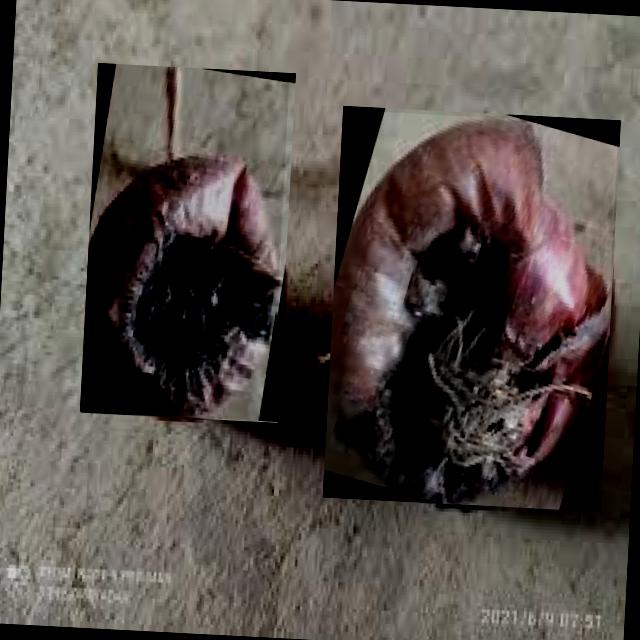rotten: (330, 120, 608, 504), (84, 67, 279, 417)
